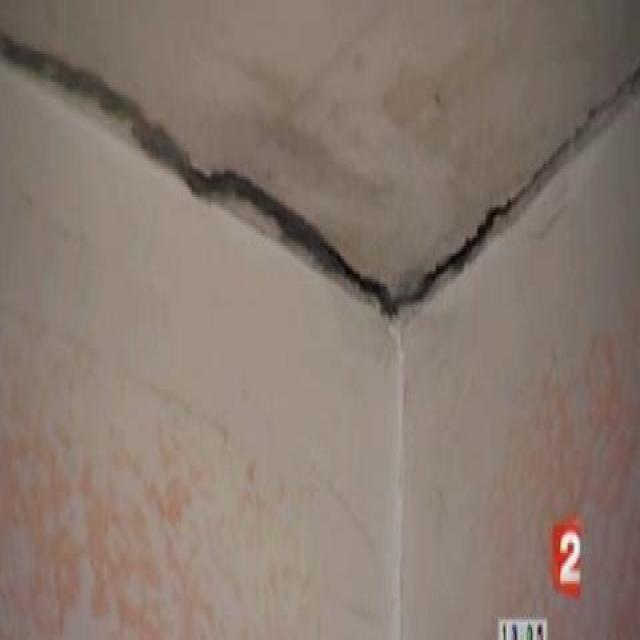crack: (1, 34, 638, 328)
